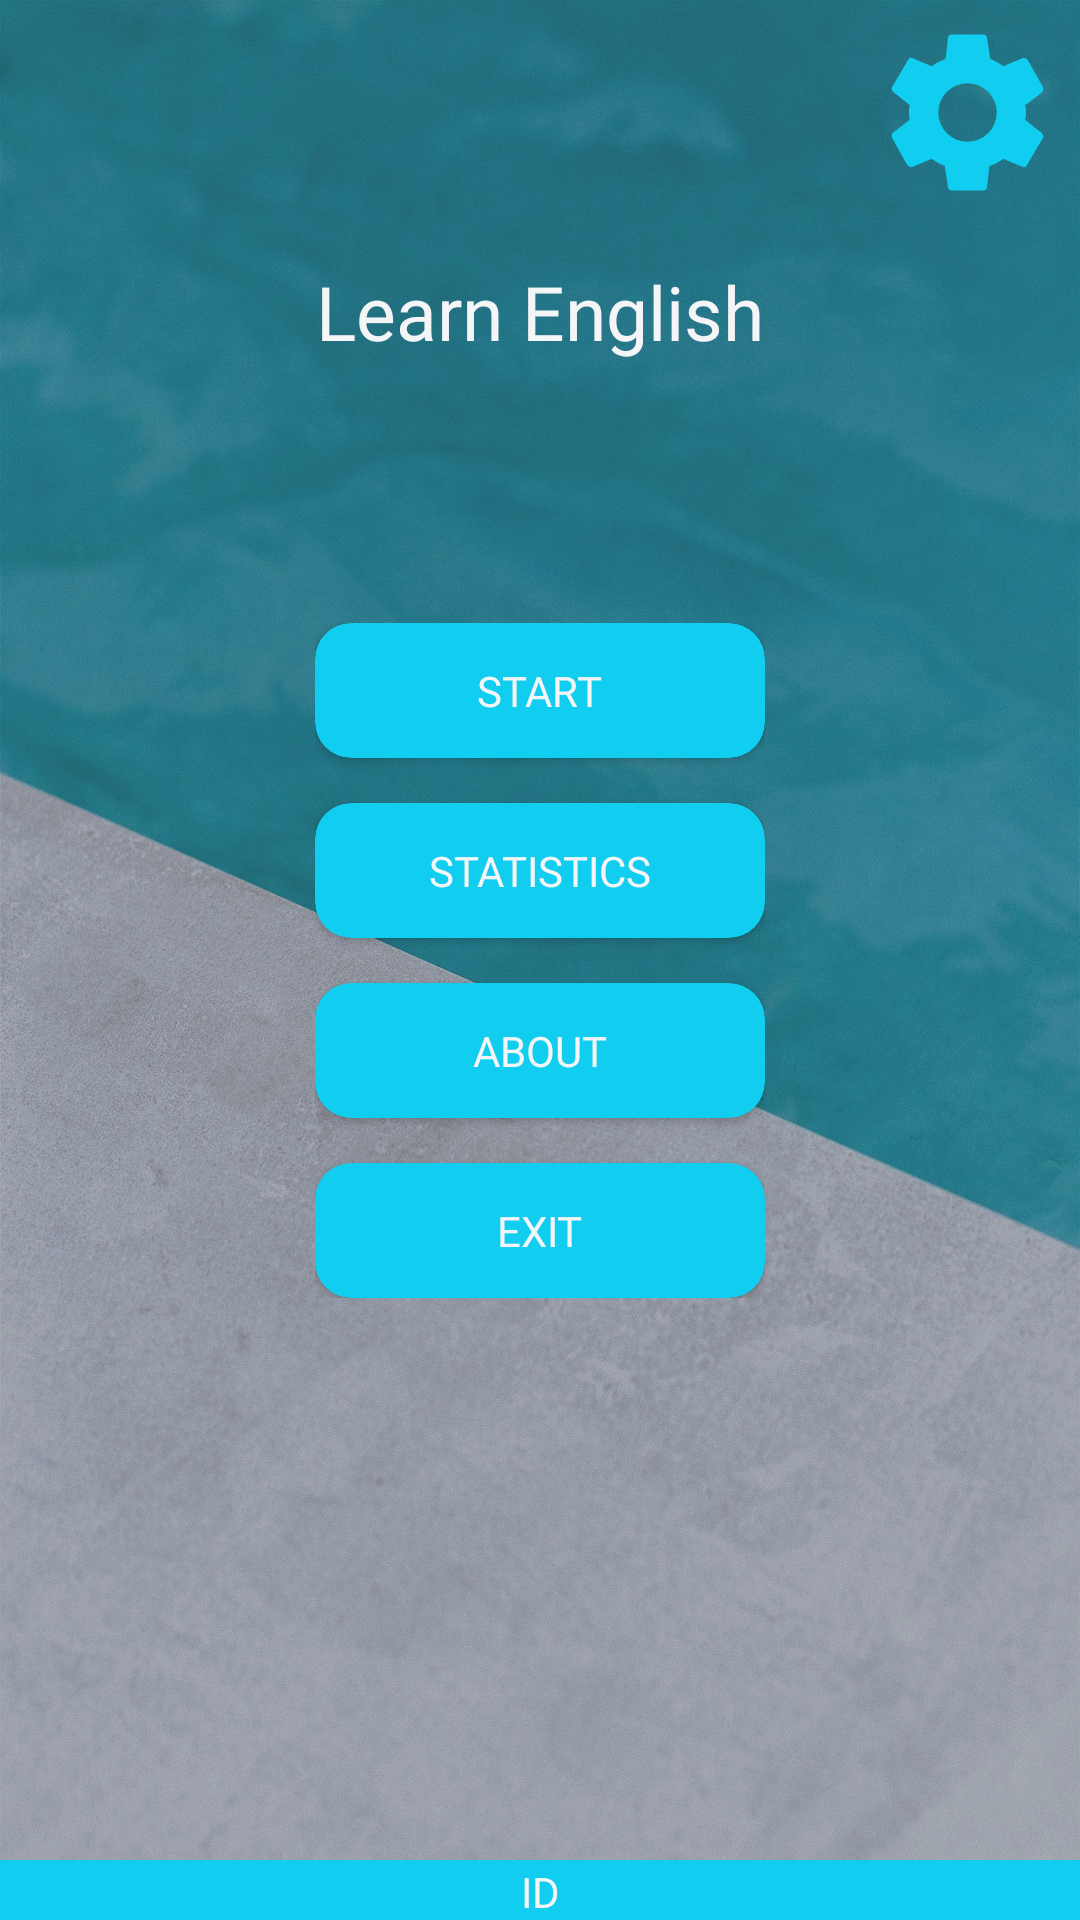

Screen size 1080 x 1920. Icon name, then its box in pixels as (left=x1, top=y1, right=x2, bottom=y2):
settings: (left=891, top=34, right=1044, bottom=191)
